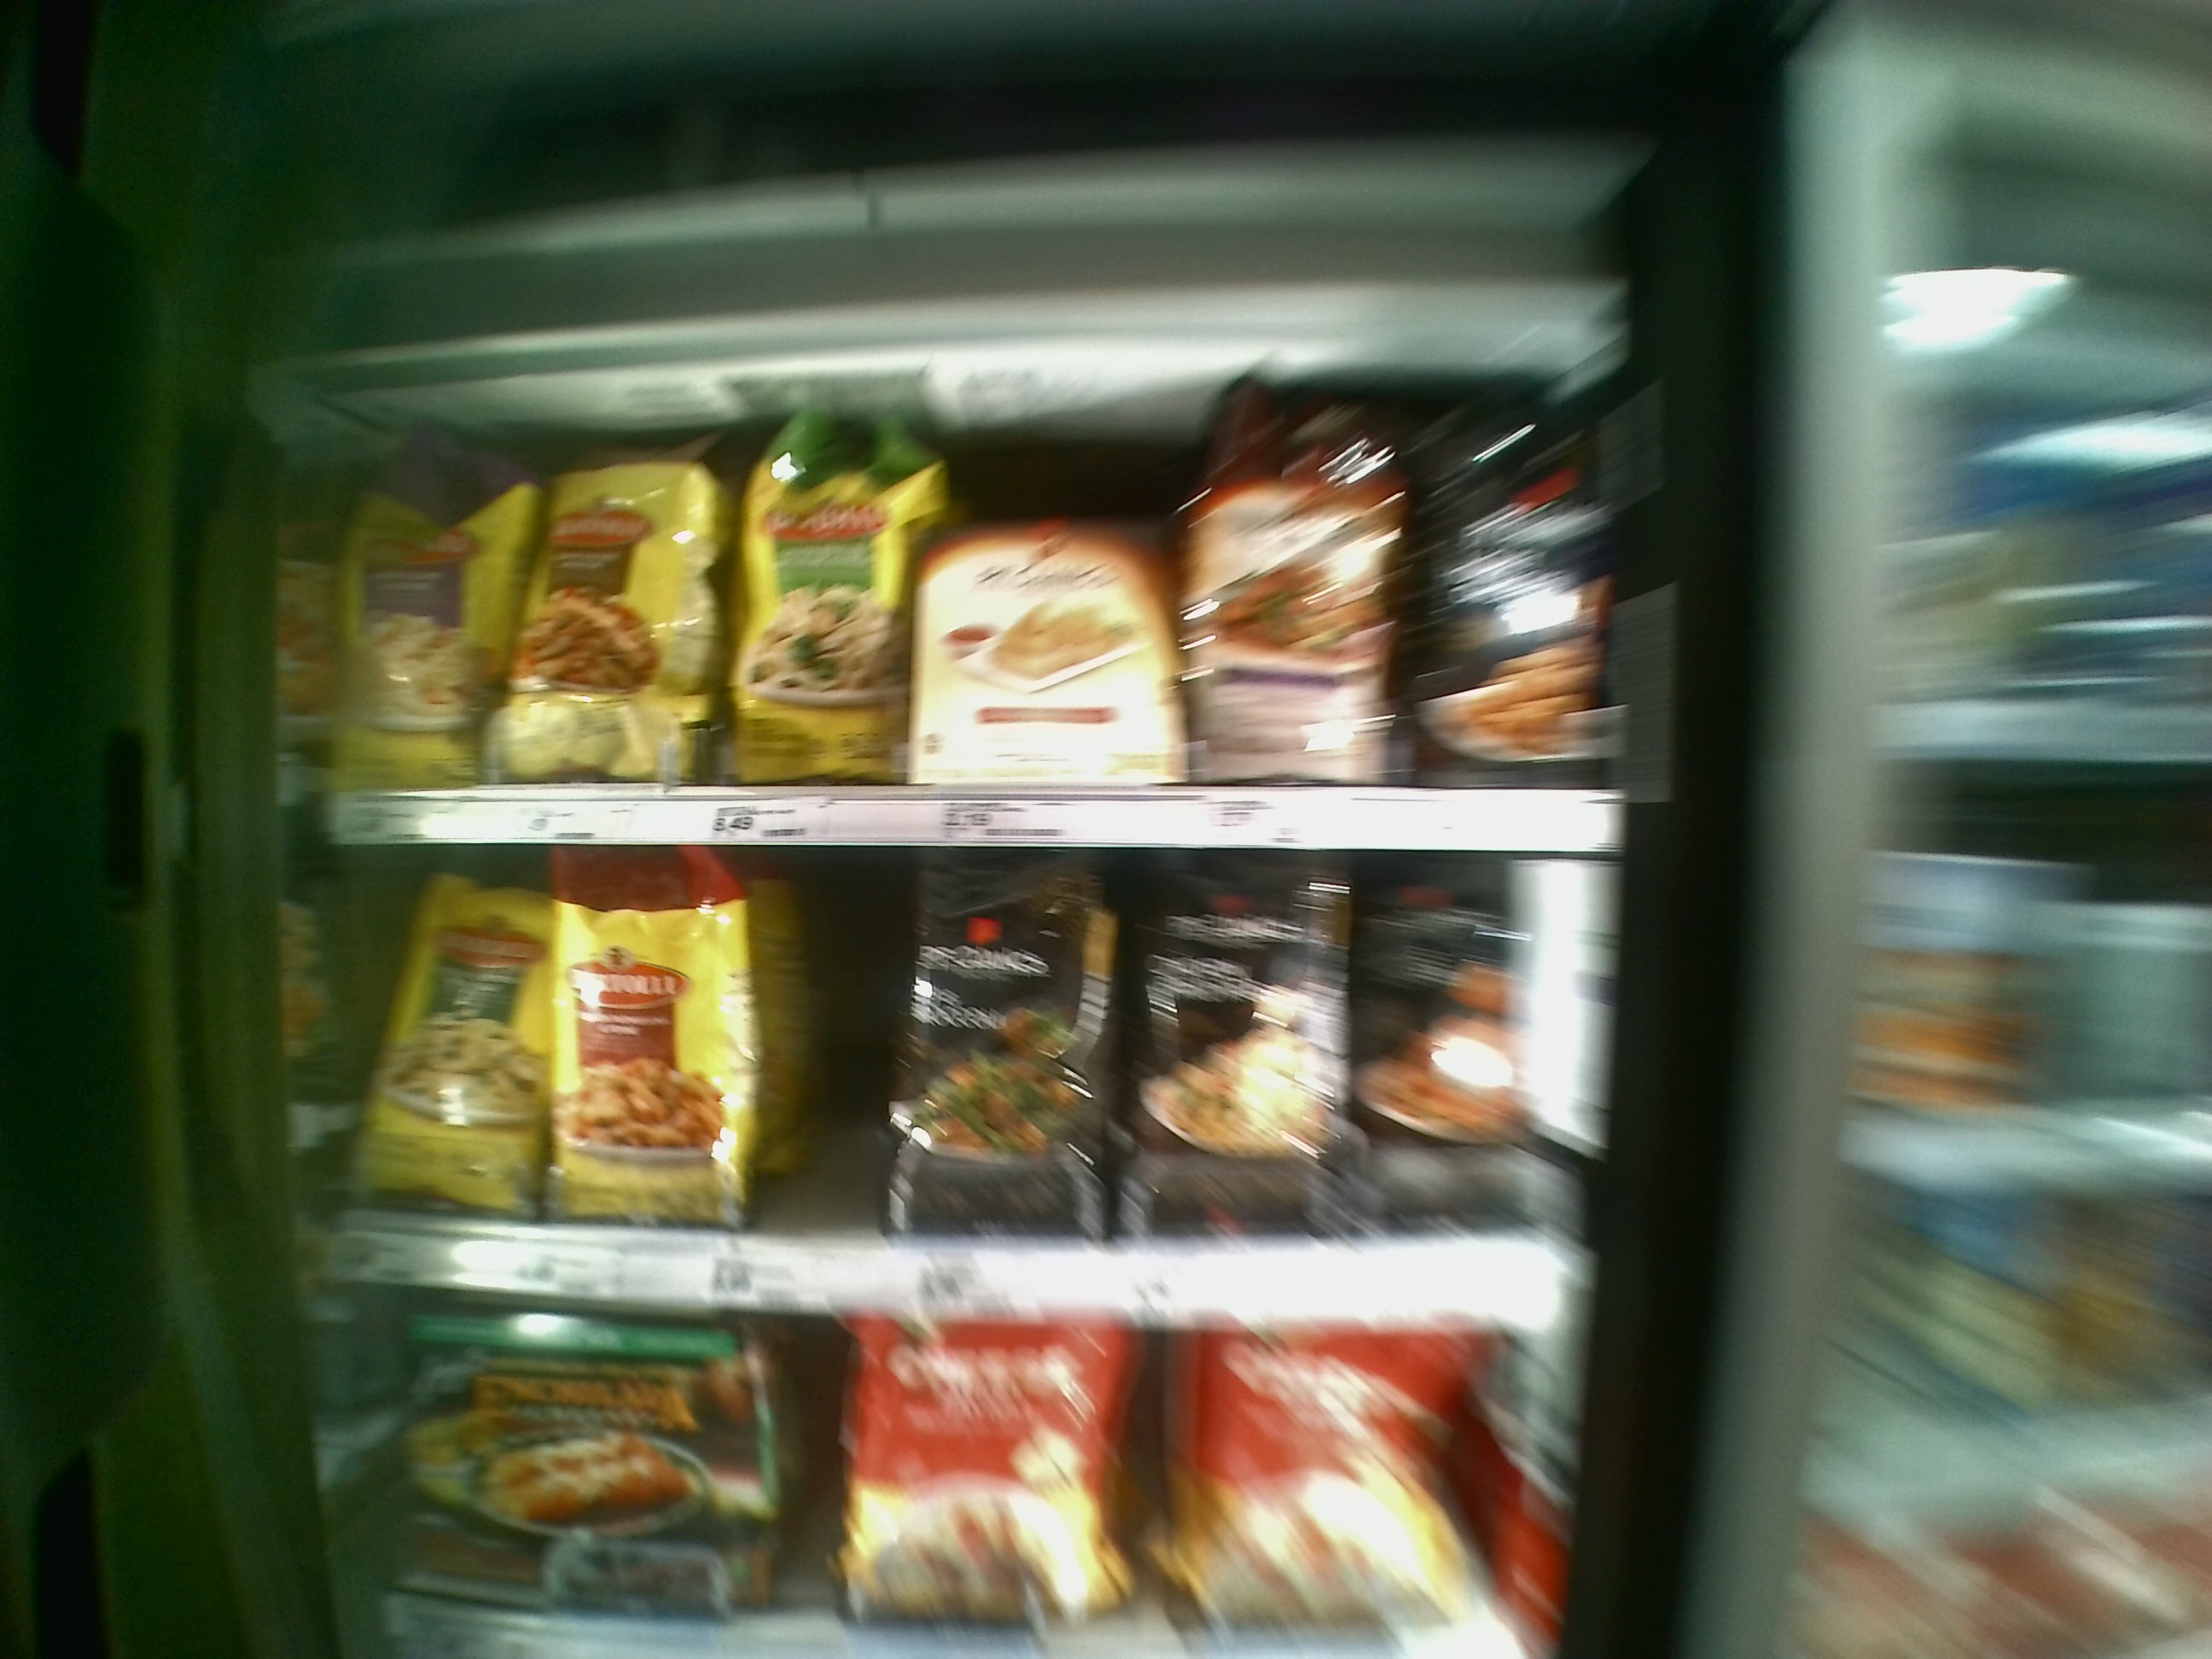shelf: (291, 843, 1627, 1338), (279, 390, 1634, 849)
